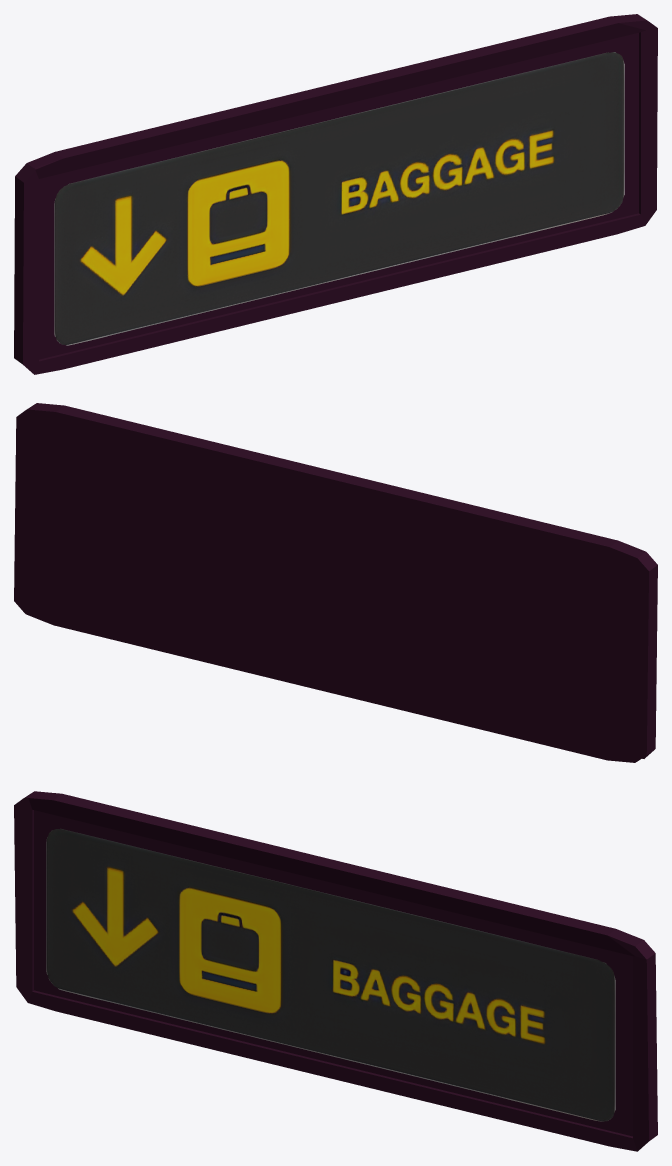
The model's file is BaggageSignage.fbx.
3 renders of one model, top to bottom at view 1: azimuth 30°, elevation 25°; view 2: azimuth 150°, elevation 25°; view 3: azimuth 330°, elevation 25°, orthographic.
Parts seen in each view (by area): view 1: Untitled design (38) 4, Cube.011; view 2: Cube.011; view 3: Untitled design (38) 4, Cube.011.
Part boxes in pixels (box(x1,y1,x2,y2)): Untitled design (38) 4: box(54, 52, 624, 345); Cube.011: box(14, 14, 657, 374); Cube.011: box(14, 403, 657, 762); Untitled design (38) 4: box(46, 828, 615, 1121); Cube.011: box(14, 791, 657, 1151).
Bounding box in the file's own units: 10.86 × 3.48 × 0.3148.
2 materials, 2 textured.
